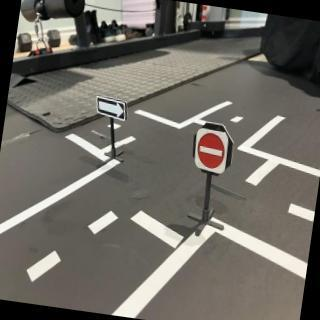sign_noentry: (192, 129, 232, 175)
sign_oneway_right: (94, 97, 129, 122)
